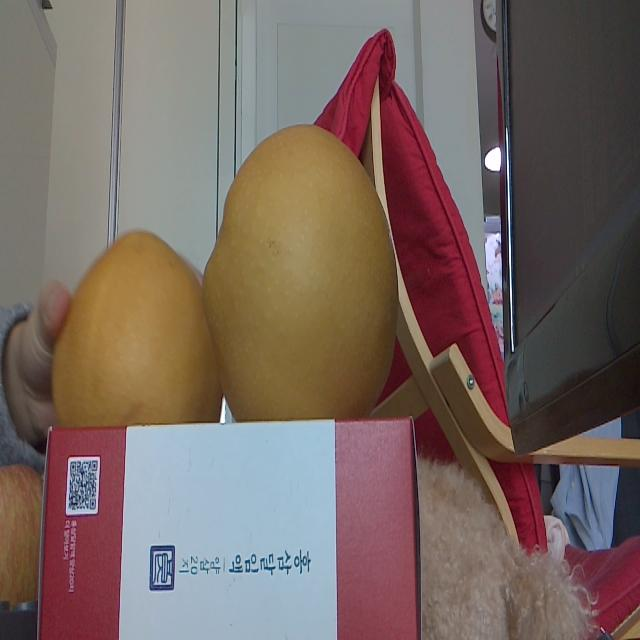pear: (203, 128, 397, 422), (47, 234, 207, 425)
